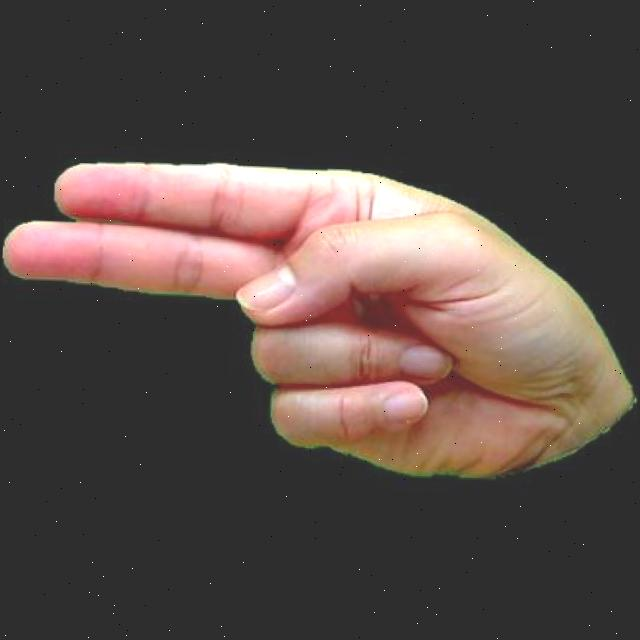h: (0, 139, 640, 496)
